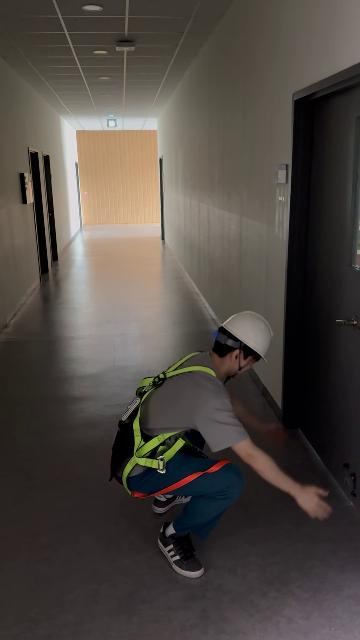helmet_worn: (216, 311, 274, 364)
shoe_not_worn: (157, 522, 203, 577), (151, 492, 192, 514)
vest_worn: (107, 360, 209, 494)
